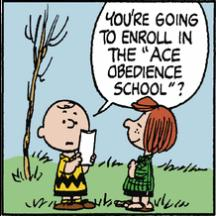charlie: (36, 98, 97, 210)
